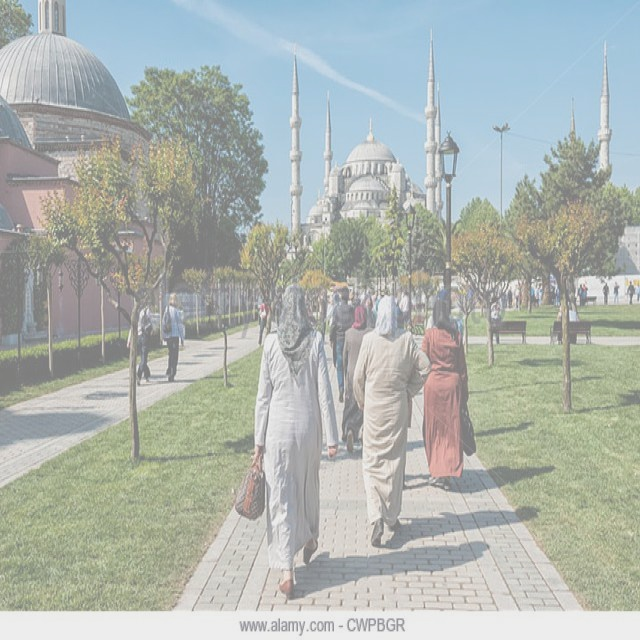pessoa: (233, 280, 340, 604), (351, 293, 432, 545), (421, 299, 470, 493), (424, 288, 459, 467), (342, 303, 373, 456), (329, 286, 355, 404), (159, 290, 185, 384), (344, 283, 426, 311), (321, 290, 346, 377), (489, 279, 548, 309), (135, 302, 154, 387), (550, 301, 579, 348), (257, 296, 269, 348), (489, 296, 501, 347), (361, 294, 377, 332), (393, 309, 414, 335), (363, 309, 380, 335), (465, 279, 477, 314), (576, 284, 589, 306), (548, 279, 561, 301), (256, 292, 264, 325), (344, 309, 356, 331), (626, 280, 636, 306), (612, 280, 620, 306), (580, 283, 587, 308), (602, 282, 609, 306), (635, 284, 639, 304)
